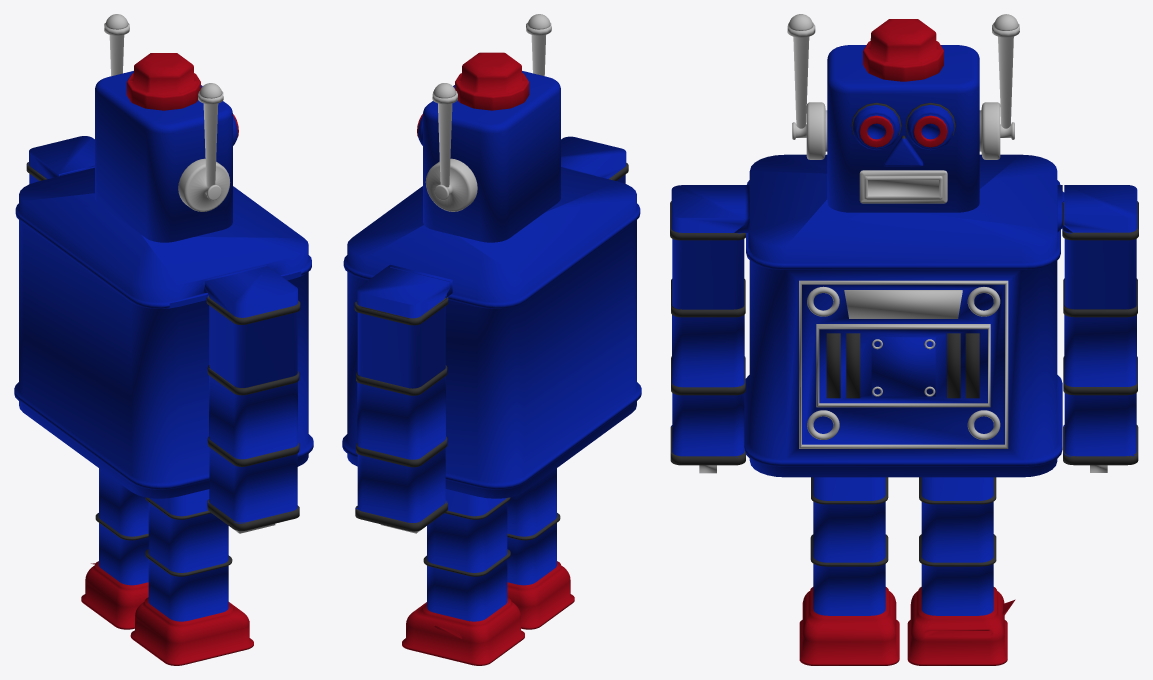
File: robot.glb
The picture shows the model from 3 angles, left to right: view 1: azimuth 30°, elevation 25°; view 2: azimuth 150°, elevation 25°; view 3: azimuth 270°, elevation 25°; orthographic projection. The views are drawn at different scales.
Visible parts, largest first — view 1: Cube, Cube.006, Cube.003, Cube.005, Cube.004; view 2: Cube, Cube.006, Cube.004, Cube.005, Cube.003; view 3: Cube, Cube.006, Cube.005, Cube.004, Cube.003.
Part boxes in pixels (bbox=[...]): Cube: bbox=[14, 166, 313, 498]; Cube.006: bbox=[95, 14, 238, 242]; Cube.003: bbox=[169, 266, 301, 530]; Cube.005: bbox=[81, 468, 253, 665]; Cube.004: bbox=[26, 136, 94, 183]; Cube: bbox=[342, 166, 641, 498]; Cube.006: bbox=[417, 14, 560, 242]; Cube.004: bbox=[354, 267, 449, 531]; Cube.005: bbox=[402, 468, 574, 665]; Cube.003: bbox=[561, 136, 628, 183]; Cube: bbox=[734, 154, 1072, 477]; Cube.006: bbox=[787, 14, 1019, 212]; Cube.005: bbox=[799, 477, 1015, 665]; Cube.004: bbox=[1062, 185, 1138, 465]; Cube.003: bbox=[670, 185, 747, 465].
Bounding box in the file's own units: 8.52 × 25.53 × 17.34.
